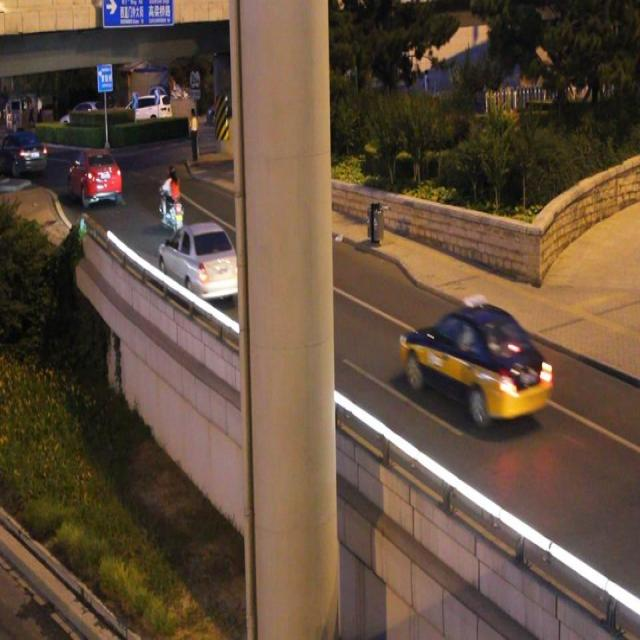car: (399, 307, 550, 420), (162, 224, 244, 297), (70, 148, 120, 202)
